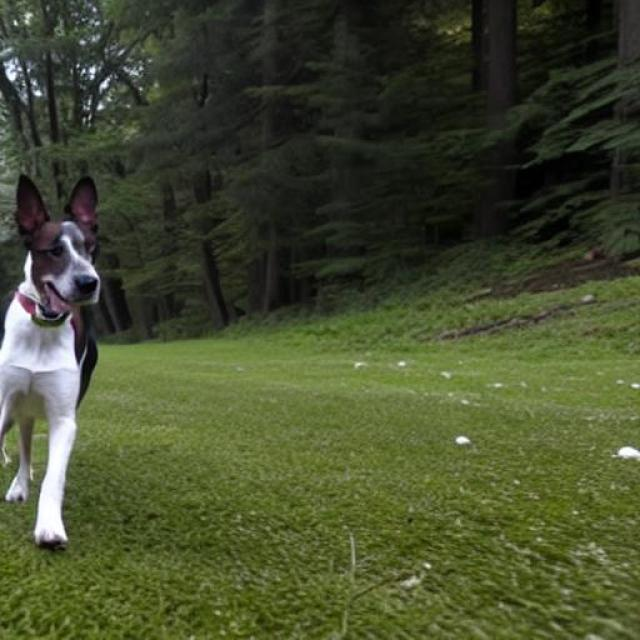Dog: (0, 173, 103, 547)
